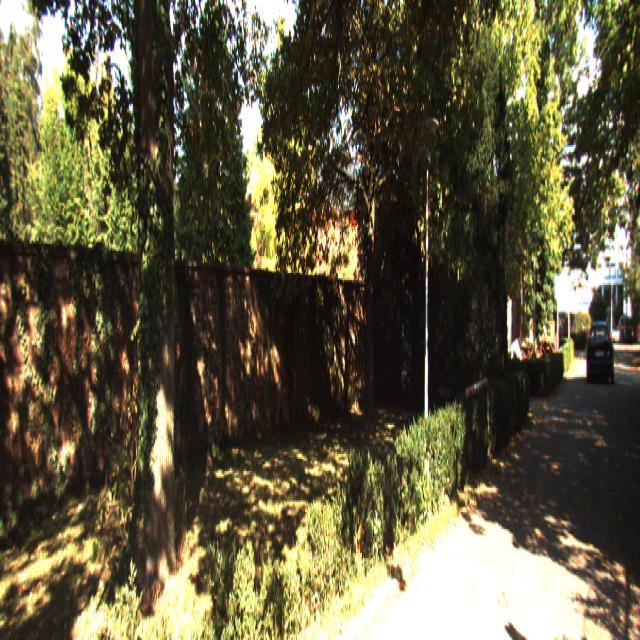Car: (587, 317, 615, 384)
